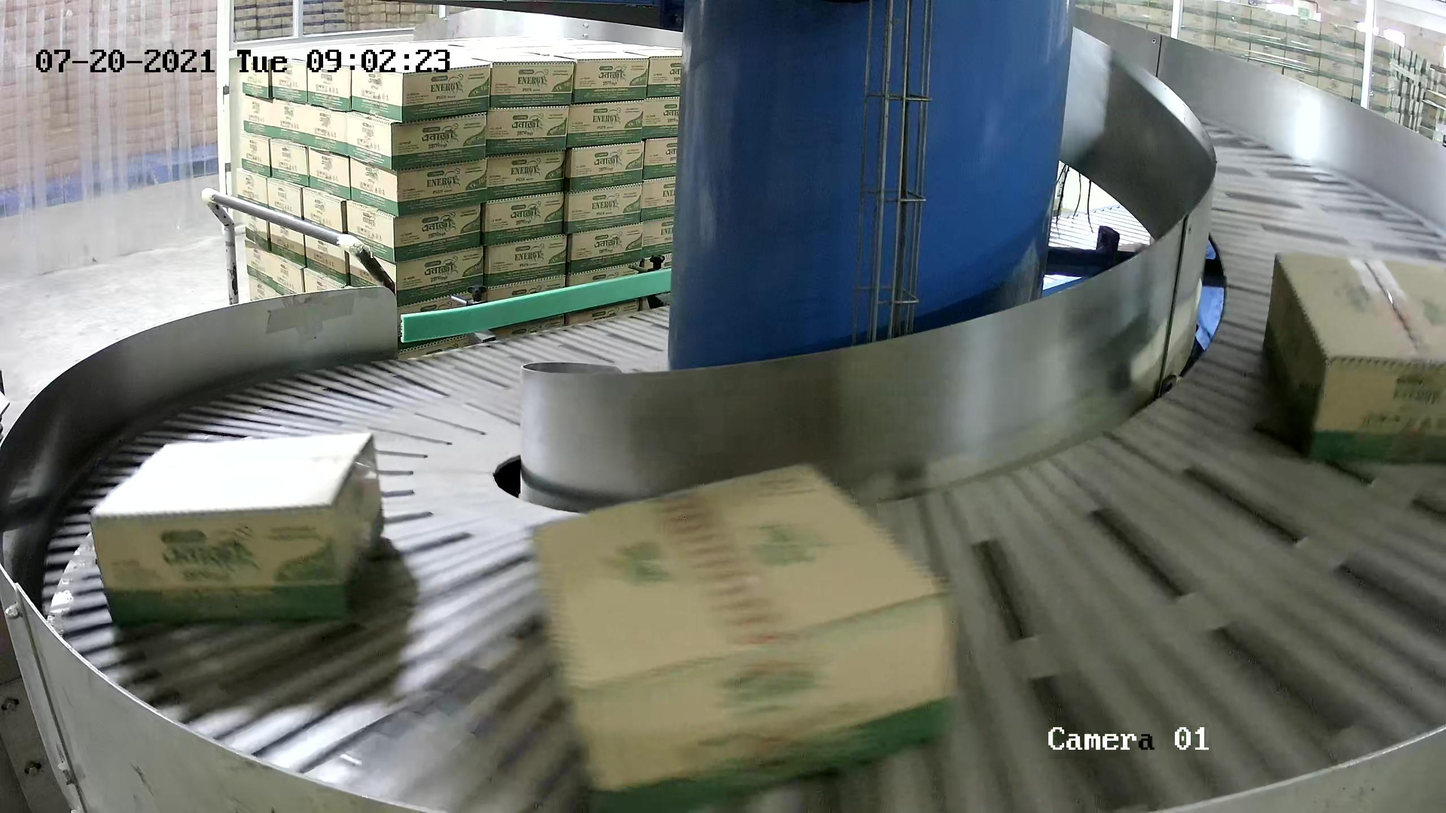Box: (518, 455, 965, 811), (87, 425, 386, 631), (1261, 247, 1446, 468)
